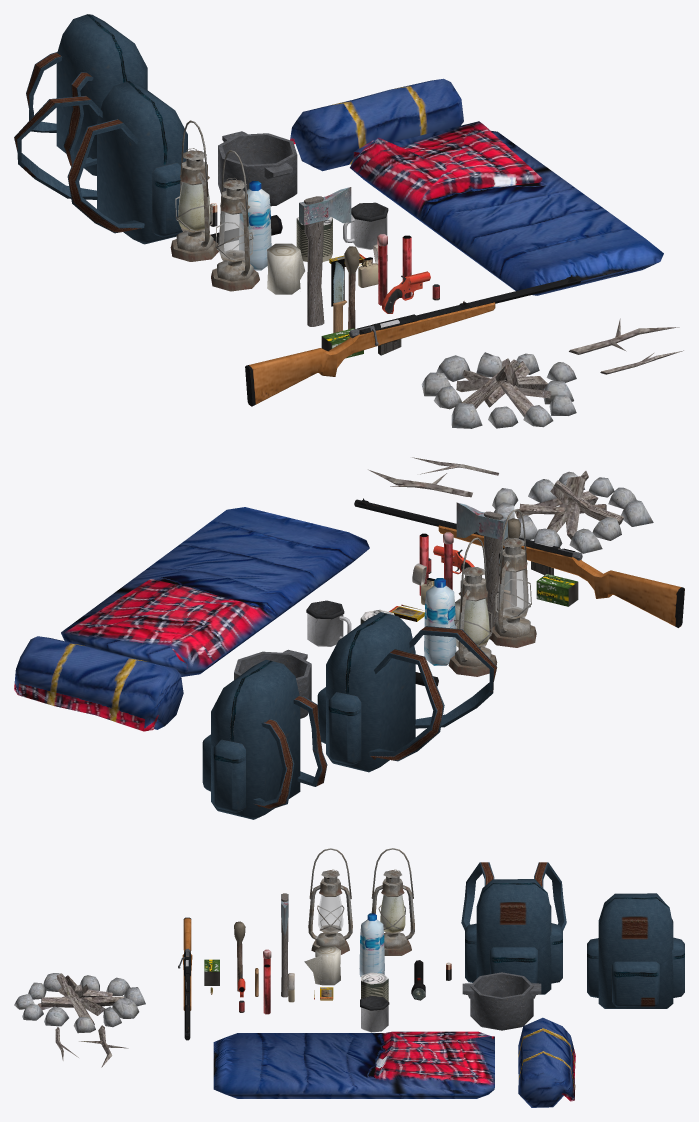
The model's file is survival_psx.glb.
The picture shows the model from 3 angles, top to bottom: view 1: azimuth 30°, elevation 25°; view 2: azimuth 150°, elevation 25°; view 3: azimuth 270°, elevation 25°; orthographic projection. The views are drawn at different scales.
Visible parts, largest first — view 1: sleeping_bag, Backpack, sleeping_bag_01, Backpack.001, bonfire, hunting_rifle, Casserole, Farol, Axe, Farol_G, Water, band (+7 smaller); view 2: sleeping_bag, Backpack, Backpack.001, sleeping_bag_01, bonfire, hunting_rifle, Farol, Farol_G, Axe, Water, Cup, Casserole (+3 smaller); view 3: sleeping_bag, Backpack, Backpack.001, bonfire, sleeping_bag_01, Casserole, Farol, Farol_G, Water, band, hunting_rifle, Cup (+6 smaller).
Boxes of the visible parts, <box> form: sleeping_bag: <box>350,121,663,295</box>; Backpack: <box>14,81,187,244</box>; sleeping_bag_01: <box>290,78,463,171</box>; Backpack.001: <box>26,14,147,175</box>; bonfire: <box>421,352,576,428</box>; hunting_rifle: <box>245,275,581,406</box>; Casserole: <box>218,131,297,206</box>; Farol: <box>170,148,218,261</box>; Axe: <box>299,187,351,326</box>; Farol_G: <box>211,178,259,291</box>; Water: <box>239,181,271,270</box>; band: <box>267,243,304,294</box>; sleeping_bag: <box>61,507,369,676</box>; Backpack: <box>317,612,497,772</box>; Backpack.001: <box>202,659,327,819</box>; sleeping_bag_01: <box>14,636,183,731</box>; bonfire: <box>492,471,653,553</box>; hunting_rifle: <box>354,498,684,627</box>; Farol: <box>448,567,497,676</box>; Farol_G: <box>489,538,536,647</box>; Axe: <box>456,502,507,639</box>; Water: <box>424,578,456,665</box>; Cup: <box>306,600,351,646</box>; Casserole: <box>234,649,311,718</box>; sleeping_bag: <box>213,1031,494,1098</box>; Backpack: <box>461,862,566,994</box>; Backpack.001: <box>587,893,684,1008</box>; bonfire: <box>14,973,145,1033</box>; sleeping_bag_01: <box>518,1017,575,1107</box>; Casserole: <box>462,972,541,1030</box>; Farol: <box>371,869,414,955</box>; Farol_G: <box>308,869,352,954</box>; Water: <box>359,913,384,976</box>; band: <box>304,945,340,985</box>; hunting_rifle: <box>182,917,192,1040</box>; Cup: <box>360,996,389,1032</box>.
Size of the model in its own units: 2.74 by 1.02 by 4.67.
Materials: 21 (20 with a texture image).
